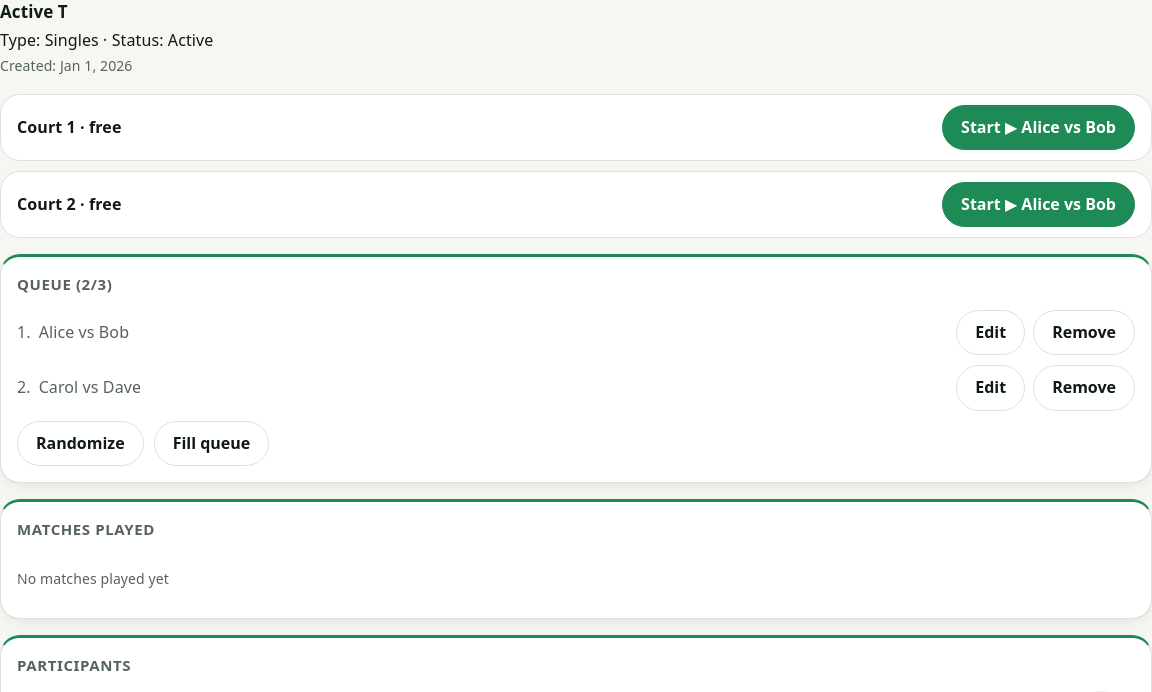
Test: TournamentDetail: Courts (multi-court) › Start on a free court starts the queue HEAD on that court, shrinks the queue and shows the court with fresh score inputs
Step 1. Click the button "Start ▶ Alice vs Bob" in the row of "Court 2 · free" → (1039,204), box [942, 182, 1135, 227]
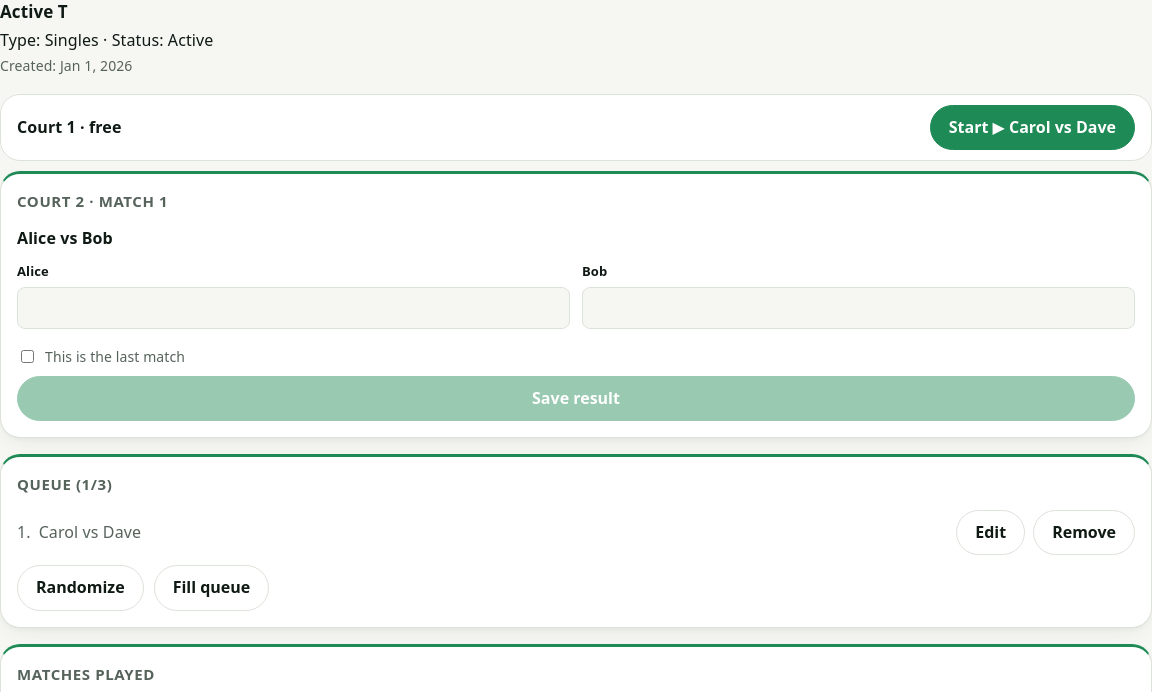
Expected: the text "Court 1 · free" is shown, [17, 116, 122, 138]
Now the number field named "Alice -- Game 1" is not empty, box [17, 287, 570, 329]
Now the heading "Queue (1/3)" is shown, box [17, 474, 112, 494]
